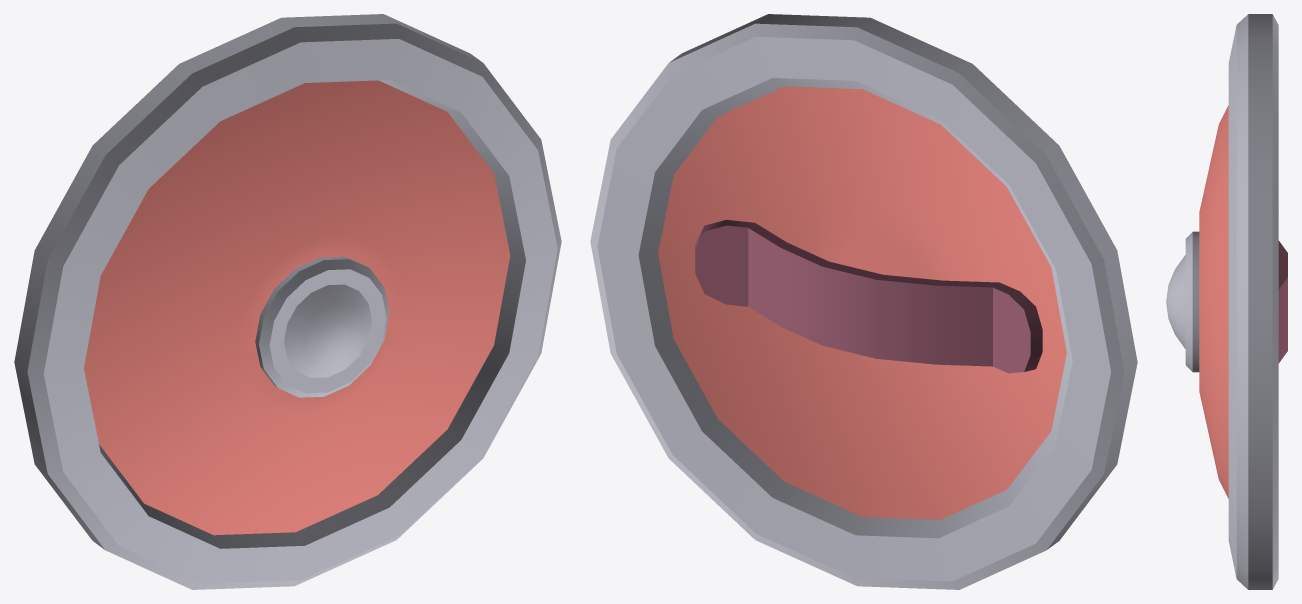
Rendered from Shield_attack.fbx.
3 renders of one model, left to right at view 1: azimuth 30°, elevation 25°; view 2: azimuth 150°, elevation 25°; view 3: azimuth 270°, elevation 25°, orthographic. The views are drawn at different scales.
Visible parts, largest first — view 1: Shield_1; view 2: Shield_1; view 3: Shield_1.
Boxes of the visible parts, left/top/right/bottom form: Shield_1: left=14, top=14, right=561, bottom=589; Shield_1: left=590, top=14, right=1137, bottom=589; Shield_1: left=1166, top=14, right=1287, bottom=589.
Size of the model in its own units: 304 by 304 by 64.22.
